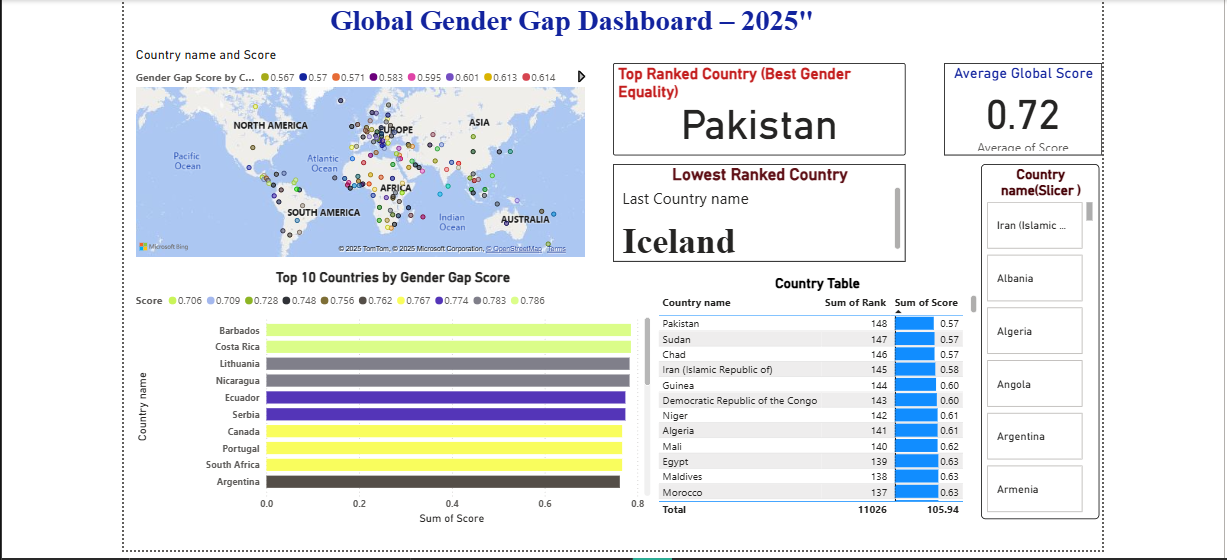

What the dashboard file says about the page in this screenshot:
{"tool":"powerbi","page":{"name":"Page 1Global Gender Gap Dashboard – 2025","canvas":[1280,720],"ordinal":0},"visuals":[{"type":"textbox","box":[10.1,0,1152.3,62.2],"z":0},{"type":"map","fields":{"Category":["global-gender-gap-index-rank-an.Country name"],"Series":["global-gender-gap-index-rank-an.Score"]},"box":[10.1,62.2,598,280.5],"z":1000},{"type":"card","title":"Average Global Score","fields":{"Values":["Avg(global-gender-gap-index-rank-an.Score)"]},"box":[1073.4,82.3,206.6,120.9],"z":2000},{"type":"card","title":"Top Ranked Country (Best Gender Equality)","fields":{"Values":["Min(global-gender-gap-index-rank-an.Country name)"]},"box":[640,82.3,383,120.9],"z":3000},{"type":"tableEx","title":"Lowest Ranked Country","fields":{"Values":["global-gender-gap-index-rank-an.Country name"]},"box":[640,215,383,127.7],"z":4000},{"type":"barChart","title":"Top 10 Countries by Gender Gap Score","fields":{"Category":["global-gender-gap-index-rank-an.Country name"],"Y":["Sum(global-gender-gap-index-rank-an.Score)"],"Series":["global-gender-gap-index-rank-an.Score"]},"box":[10.1,352.8,683.7,339.3],"z":5000},{"type":"tableEx","title":"Country Table","fields":{"Values":["global-gender-gap-index-rank-an.Country name","Sum(global-gender-gap-index-rank-an.Rank)","Sum(global-gender-gap-index-rank-an.Score)"]},"box":[693.8,359.5,428.3,320.8],"z":6000},{"type":"advancedSlicerVisual","title":"Country name(Slicer )","fields":{"Values":["global-gender-gap-index-rank-an.Country name"]},"box":[1122.1,215,154.5,465.3],"z":7000}]}

Visuals, with their boxes on the page's 1280x720 design canvas (x1, y1, x2, y2). These are canvas units, not pixel positions in the 1227x560 screenshot, which may show the page scaled, cropped or inside an application window:
textbox: (10, 0, 1162, 62)
map - global-gender-gap-index-rank-an.Country name x global-gender-gap-index-rank-an.Score: (10, 62, 608, 343)
"Average Global Score" card: (1073, 82, 1280, 203)
"Top Ranked Country (Best Gender Equality)" card: (640, 82, 1023, 203)
"Lowest Ranked Country" tableEx: (640, 215, 1023, 343)
"Top 10 Countries by Gender Gap Score" barChart: (10, 353, 694, 692)
"Country Table" tableEx: (694, 360, 1122, 680)
"Country name(Slicer )" advancedSlicerVisual: (1122, 215, 1277, 680)
